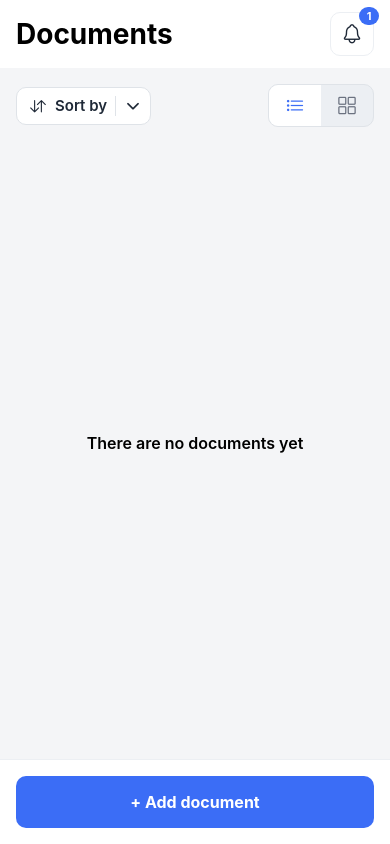
Test: DocumentListScreen notifications › clears the badge once the user looks at it
Click the button named "Notifications, 1 unseen".
click(352, 34)  # box [330,12,374,56]
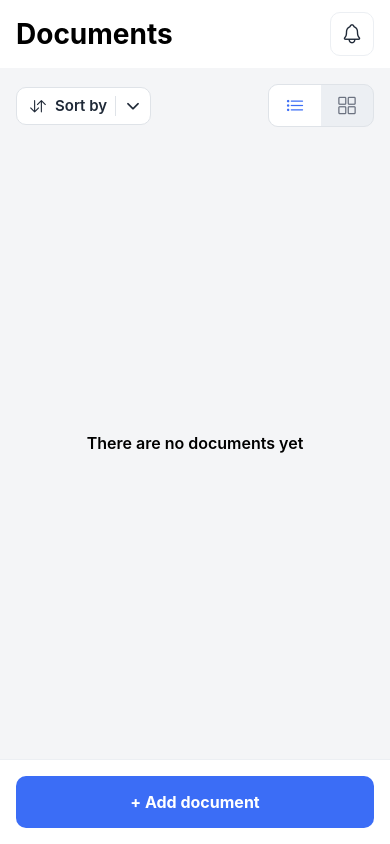
Expected: the button named "Notifications, none unseen" is shown, [330,12,374,56]
